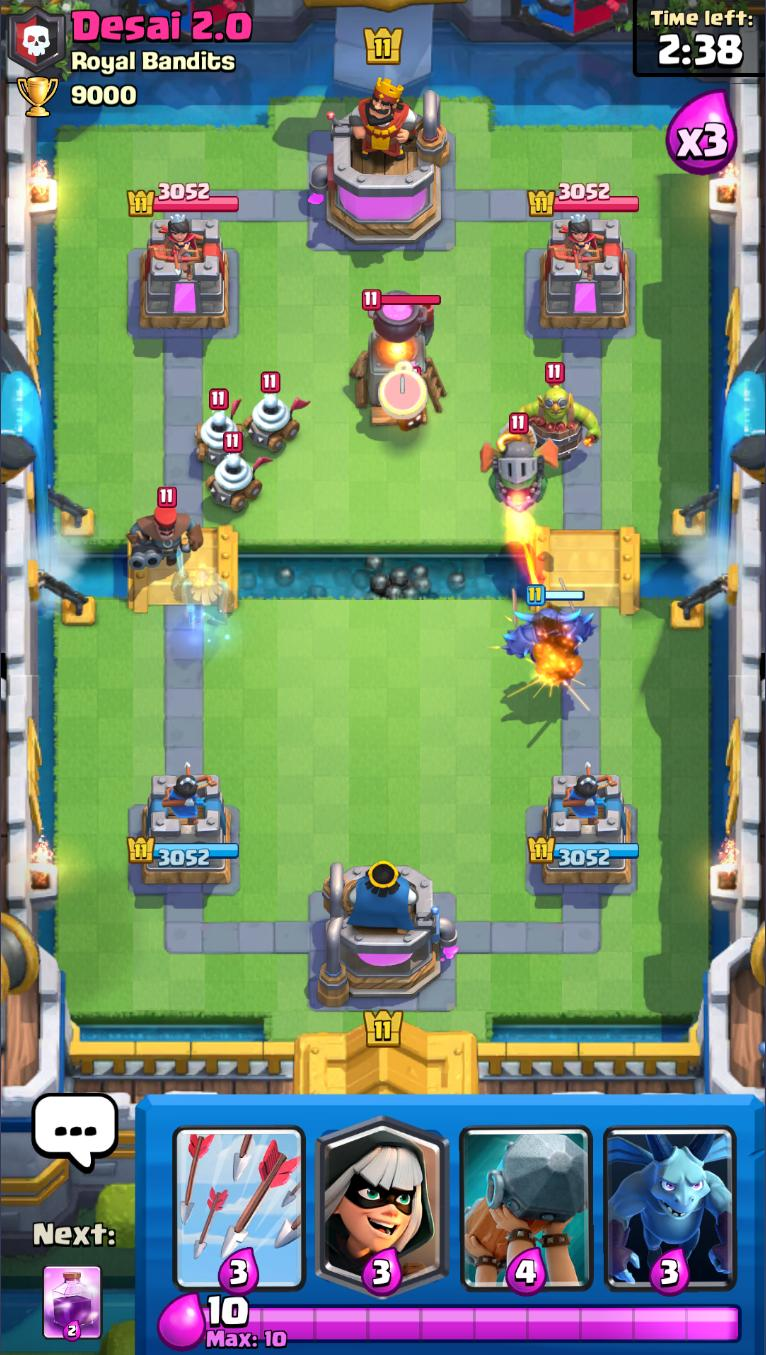ArrowDeck: (166, 1096, 312, 1294)
BanditDeck: (312, 1096, 453, 1298)
BattleRamDeck: (454, 1097, 598, 1296)
Demolisher: (512, 361, 602, 460)
Elixir: (202, 1294, 743, 1351)
EnemyTower: (138, 215, 232, 331), (539, 215, 632, 331)
FireSpirit: (394, 408, 427, 432)
Furnace: (351, 289, 448, 426)
Hunter: (125, 487, 204, 571)
InfernoDragon: (479, 413, 560, 514)
KingTower: (310, 79, 451, 248)
MiniGenerator: (243, 372, 312, 456), (205, 433, 273, 513), (195, 388, 244, 467)
MinionsDeck: (598, 1095, 743, 1296)
MyKingTower: (316, 856, 459, 1009)
MyPekka: (504, 577, 597, 670)
MyPrincessTower: (125, 771, 242, 889), (528, 770, 641, 889)
MyPrincessTowerHP: (125, 835, 241, 868), (527, 835, 641, 868)
MyRoyaleGhost: (171, 547, 236, 635)
PrincessTower: (149, 215, 203, 277), (550, 216, 603, 274)
RageNext: (41, 1264, 104, 1342)
TowerPrincessHP: (127, 182, 240, 217), (528, 182, 641, 216)
